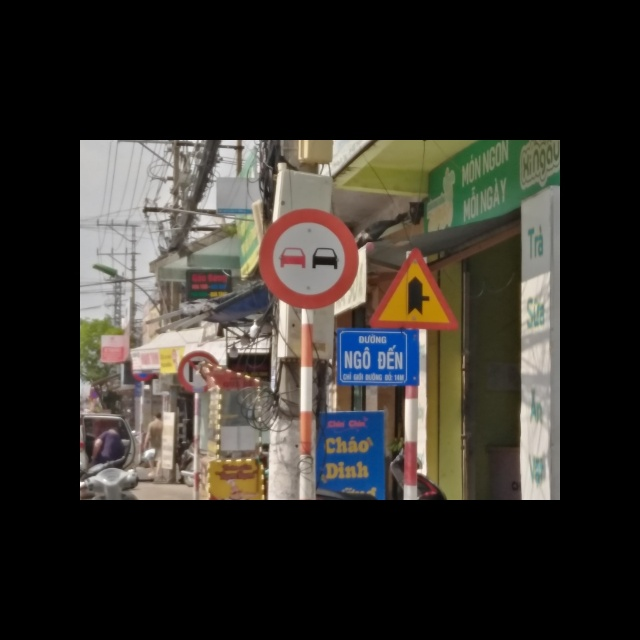Cấm vượt: (259, 206, 362, 310)
Giao nhau với đường không ưu tiên: (368, 246, 459, 332)
